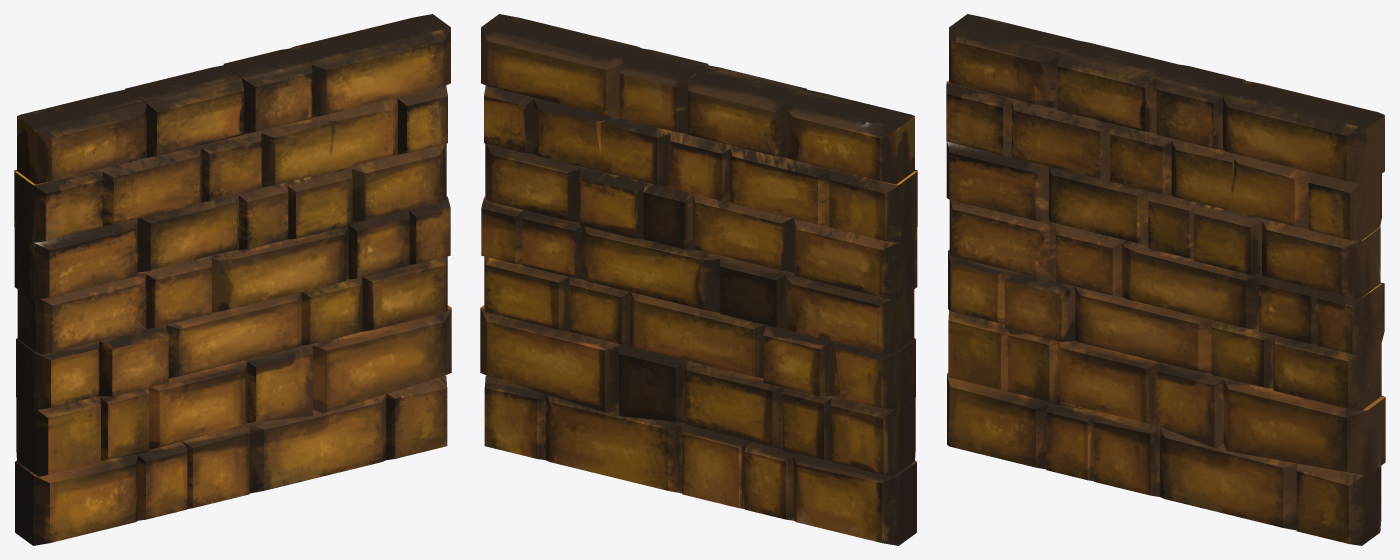
File: Wall_C.fbx
3 views of the same model, side by side, from view 1: azimuth 30°, elevation 25°; view 2: azimuth 150°, elevation 25°; view 3: azimuth 330°, elevation 25° (orthographic).
Parts seen in each view (by area): view 1: Wall_C; view 2: Wall_C; view 3: Wall_C.
Part boxes in pixels (x1,y1,x2,y2): Wall_C: [14, 14, 451, 545]; Wall_C: [480, 14, 917, 545]; Wall_C: [946, 14, 1385, 545].
Size of the model in its own units: 491 by 466 by 80.51.
